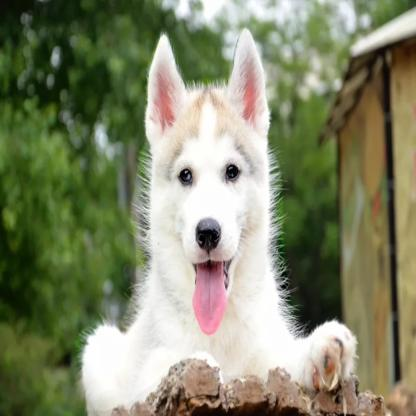dog: (78, 31, 355, 403)
